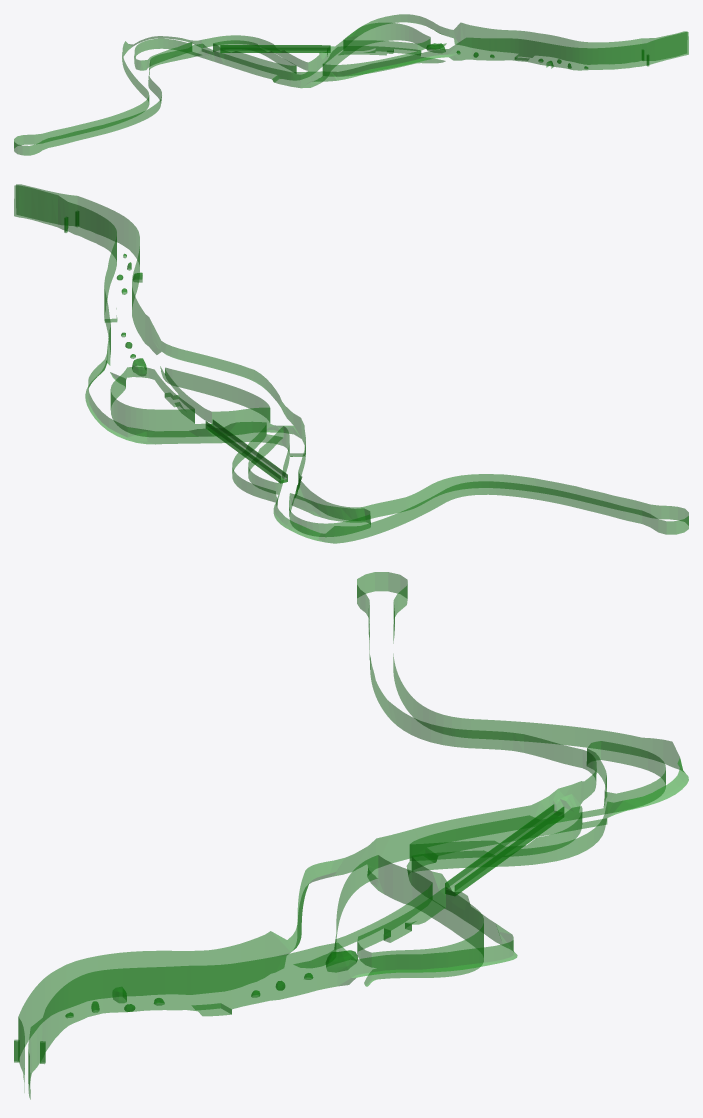
File: wall.obj
3 renders of one model, top to bottom at view 1: azimuth 30°, elevation 25°; view 2: azimuth 150°, elevation 25°; view 3: azimuth 270°, elevation 25°, orthographic. The views are drawn at different scales.
Bounding box in the file's own units: 1140 × 92.56 × 583.
